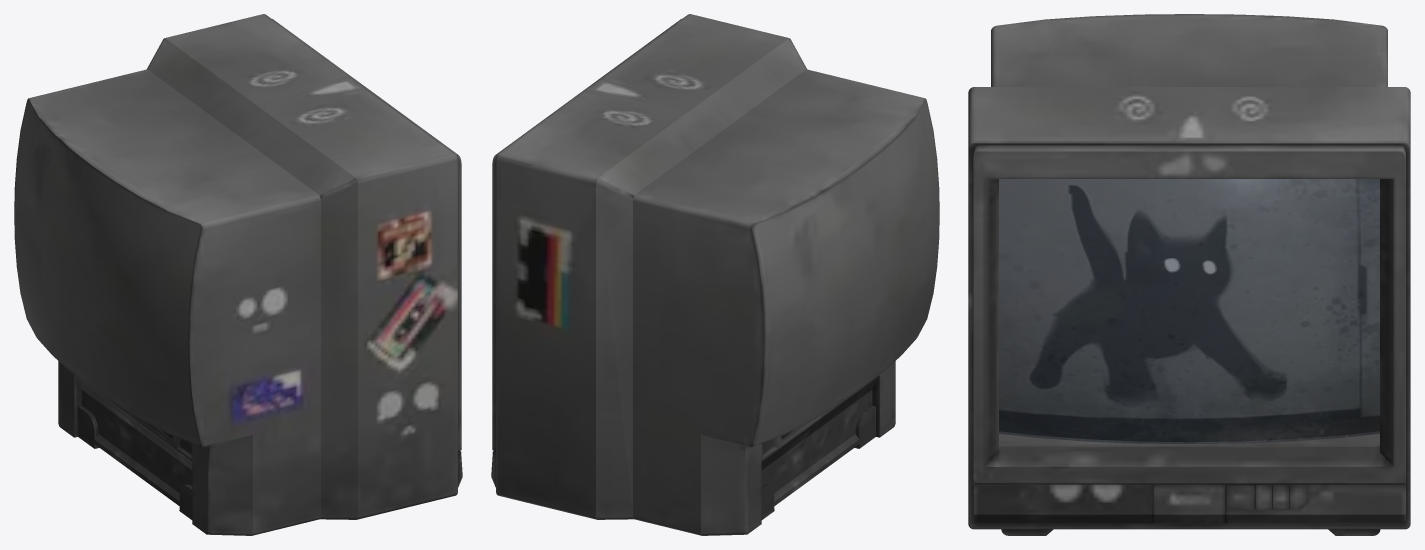
Rendered from tele_vieja.glb.
3 renders of one model, left to right at view 1: azimuth 30°, elevation 25°; view 2: azimuth 150°, elevation 25°; view 3: azimuth 270°, elevation 25°, orthographic. The views are drawn at different scales.
Size of the model in its own units: 0.6026 by 0.7109 by 0.7207.
Materials: 3 (3 with a texture image).
